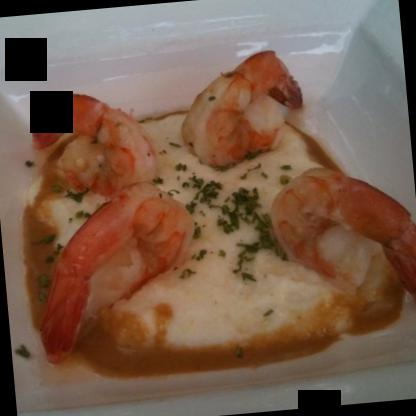shrimp: (24, 169, 204, 372), (264, 157, 415, 310), (172, 49, 304, 177), (29, 81, 152, 204)
